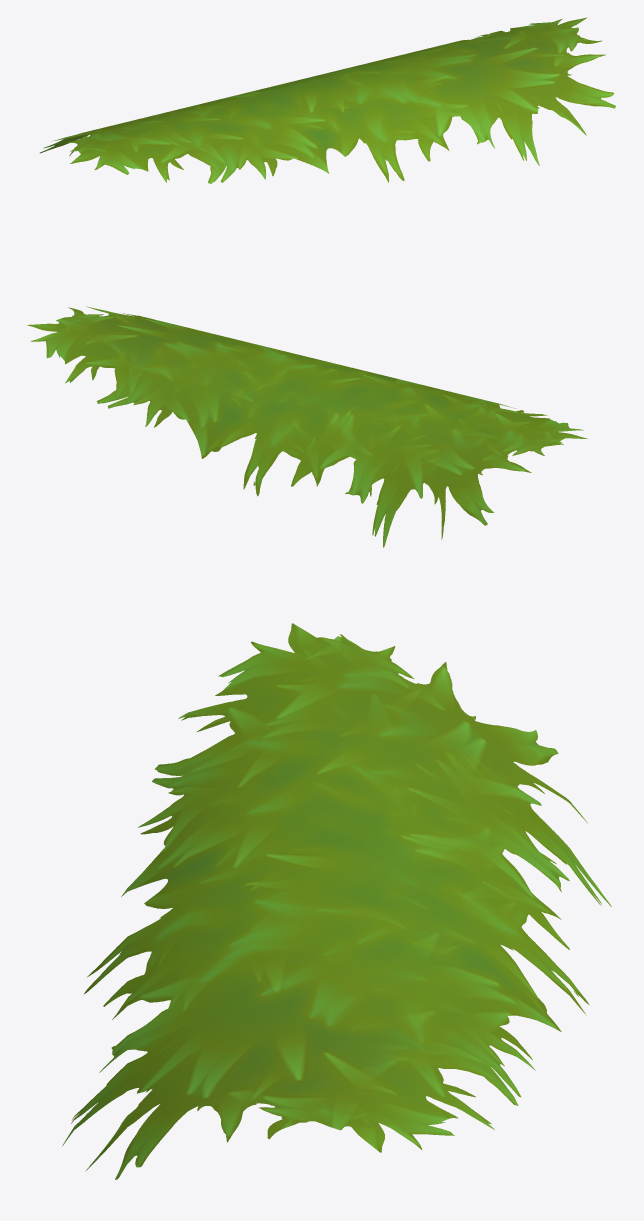
Rendered from Grass_Mask02.fbx.
The picture shows the model from 3 angles, top to bottom: view 1: azimuth 30°, elevation 25°; view 2: azimuth 150°, elevation 25°; view 3: azimuth 270°, elevation 25°; orthographic projection. The views are drawn at different scales.
Visible parts, largest first — view 1: Grass_Mask02; view 2: Grass_Mask02; view 3: Grass_Mask02.
Boxes of the visible parts, x1,y1,x2,y2 form: Grass_Mask02: [40, 17, 615, 183]; Grass_Mask02: [27, 306, 587, 547]; Grass_Mask02: [62, 623, 611, 1179].
Size of the model in its own units: 303 by 41.04 by 130.
Materials: 1 (1 with a texture image).
